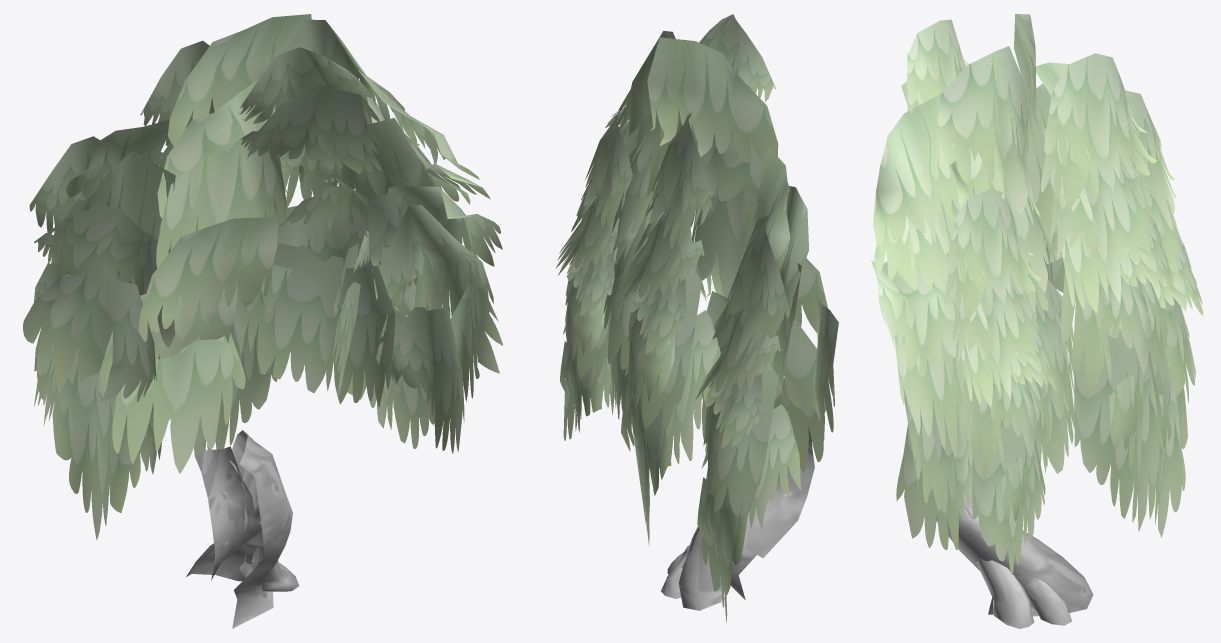
Rendered from WillowTree2.fbx.
3 views of the same model, side by side, from view 1: azimuth 30°, elevation 25°; view 2: azimuth 150°, elevation 25°; view 3: azimuth 270°, elevation 25° (orthographic). The views are drawn at different scales.
Parts seen in each view (by area): view 1: WillowCrown2, WillowCrown1, WillowCrown6, WillowTreeTrunk, WillowCrown3, WillowCrown5, WillowCrown4; view 2: WillowCrown2, WillowCrown5, WillowCrown6, WillowCrown4, WillowCrown1, WillowTreeTrunk, WillowCrown3; view 3: WillowCrown1, WillowCrown5, WillowCrown4, WillowCrown6, WillowTreeTrunk, WillowCrown2, WillowCrown3.
Boxes of the visible parts, left/top/right/bottom form: WillowCrown2: left=23, top=14, right=311, bottom=473; WillowCrown1: left=233, top=19, right=502, bottom=453; WillowCrown6: left=29, top=136, right=170, bottom=539; WillowTreeTrunk: left=186, top=430, right=299, bottom=628; WillowCrown3: left=238, top=47, right=381, bottom=173; WillowCrown5: left=140, top=40, right=286, bottom=470; WillowCrown4: left=330, top=121, right=450, bottom=448; WillowCrown2: left=647, top=37, right=838, bottom=473; WillowCrown5: left=616, top=113, right=720, bottom=546; WillowCrown6: left=695, top=215, right=800, bottom=623; WillowCrown4: left=555, top=113, right=632, bottom=440; WillowCrown1: left=576, top=31, right=682, bottom=419; WillowTreeTrunk: left=661, top=426, right=814, bottom=610; WillowCrown3: left=699, top=14, right=775, bottom=130; WillowCrown1: left=871, top=46, right=1074, bottom=549; WillowCrown5: left=1040, top=53, right=1174, bottom=530; WillowCrown4: left=944, top=189, right=1056, bottom=574; WillowCrown6: left=1109, top=90, right=1203, bottom=537; WillowTreeTrunk: left=936, top=396, right=1093, bottom=628; WillowCrown2: left=1014, top=14, right=1068, bottom=292; WillowCrown3: left=901, top=19, right=969, bottom=164.
Size of what is drawn, in the model's own units: 4.96 by 7.1 by 3.55.
